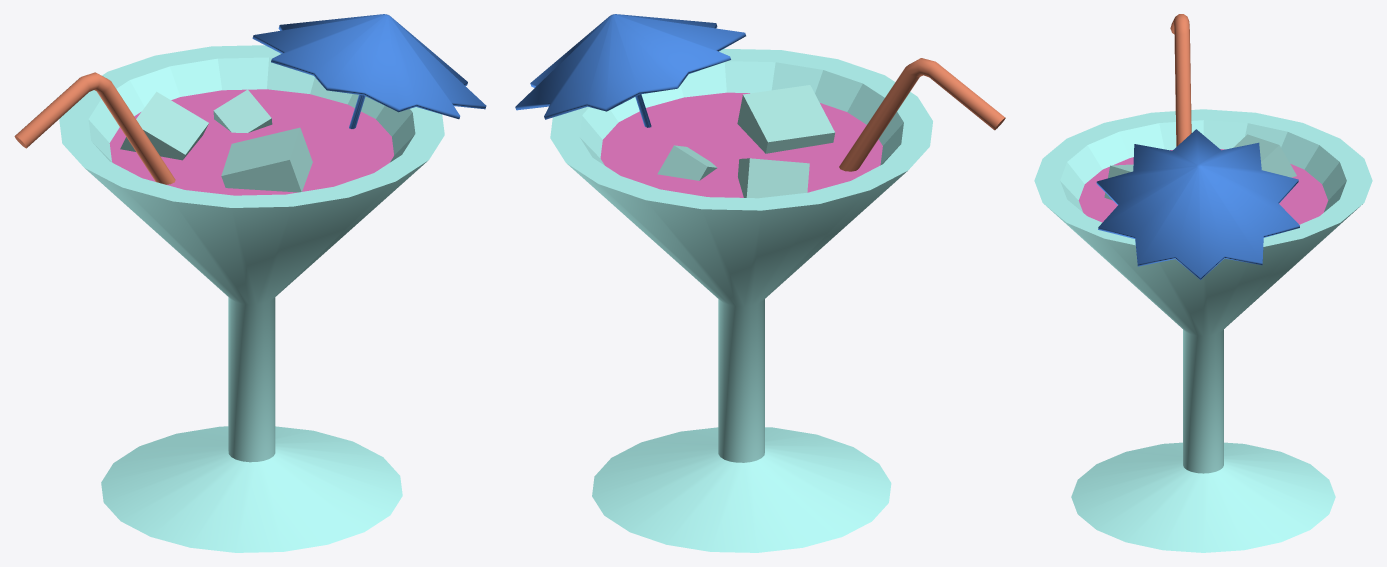
Rendered from glass.fbx.
3 renders of one model, left to right at view 1: azimuth 30°, elevation 25°; view 2: azimuth 150°, elevation 25°; view 3: azimuth 270°, elevation 25°, orthographic. The views are drawn at different scales.
Visible parts, largest first — view 1: glass, drink, umbrella, icecubes, straw; view 2: glass, drink, umbrella, icecubes, straw; view 3: glass, umbrella, drink, straw, icecubes.
Boxes of the visible parts, <box> form: glass: <box>59,45,444,552</box>; drink: <box>109,89,393,195</box>; umbrella: <box>252,14,486,128</box>; icecubes: <box>120,89,312,192</box>; straw: <box>14,72,175,184</box>; glass: <box>550,48,932,552</box>; drink: <box>600,92,882,197</box>; umbrella: <box>515,14,745,127</box>; icecubes: <box>657,85,835,198</box>; straw: <box>839,58,1005,171</box>; glass: <box>1034,109,1372,552</box>; umbrella: <box>1096,129,1299,279</box>; drink: <box>1078,149,1328,224</box>; straw: <box>1170,14,1191,146</box>; icecubes: <box>1104,134,1296,200</box>.
Bounding box in the file's own units: 55.94 × 53.61 × 40.46.
